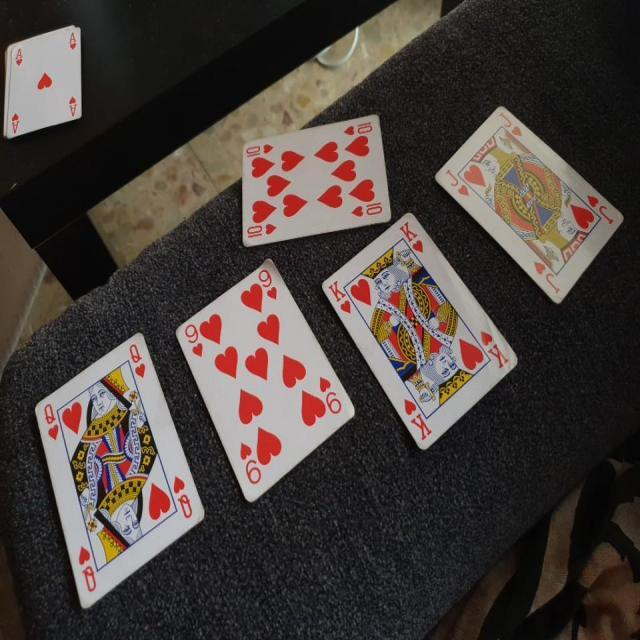10 of hearts: (234, 98, 392, 244)
9 of hearts: (174, 260, 354, 500)
ace of hearts: (0, 23, 84, 140)
jack of hearts: (428, 90, 628, 302)
king of hearts: (314, 207, 520, 454)
queen of hearts: (36, 322, 206, 618)
